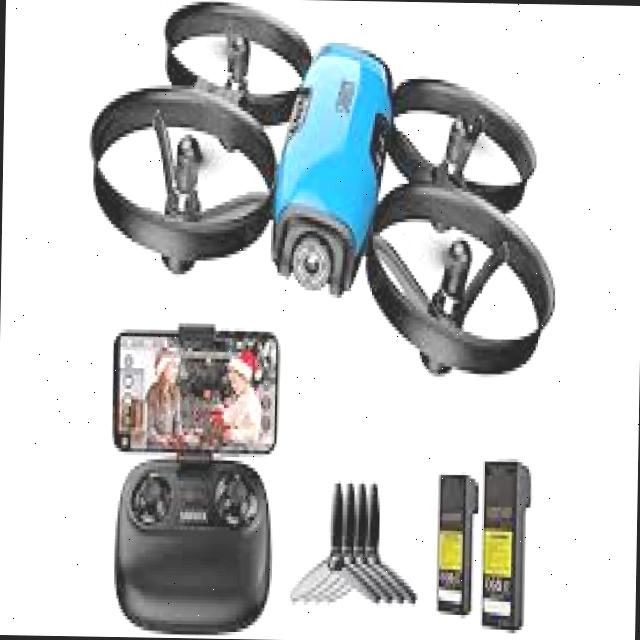drone: (68, 0, 580, 396)
